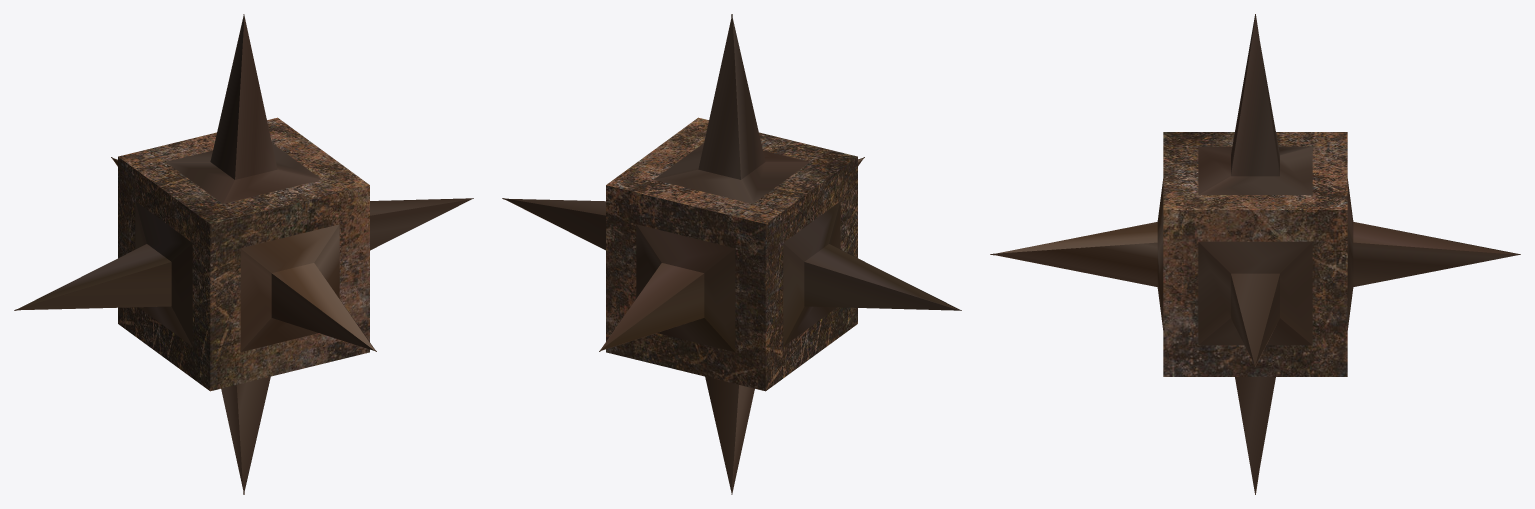
Rendered from pinchos.fbx.
3 views of the same model, side by side, from view 1: azimuth 30°, elevation 25°; view 2: azimuth 150°, elevation 25°; view 3: azimuth 270°, elevation 25° (orthographic).
Visible parts, largest first — view 1: Cube; view 2: Cube; view 3: Cube.
Part boxes in pixels (x1=…): Cube: x1=14, y1=14, x2=473, y2=494; Cube: x1=502, y1=14, x2=961, y2=494; Cube: x1=990, y1=14, x2=1520, y2=494.
Size of the model in its own units: 575 by 575 by 575.
1 material, 1 textured.
